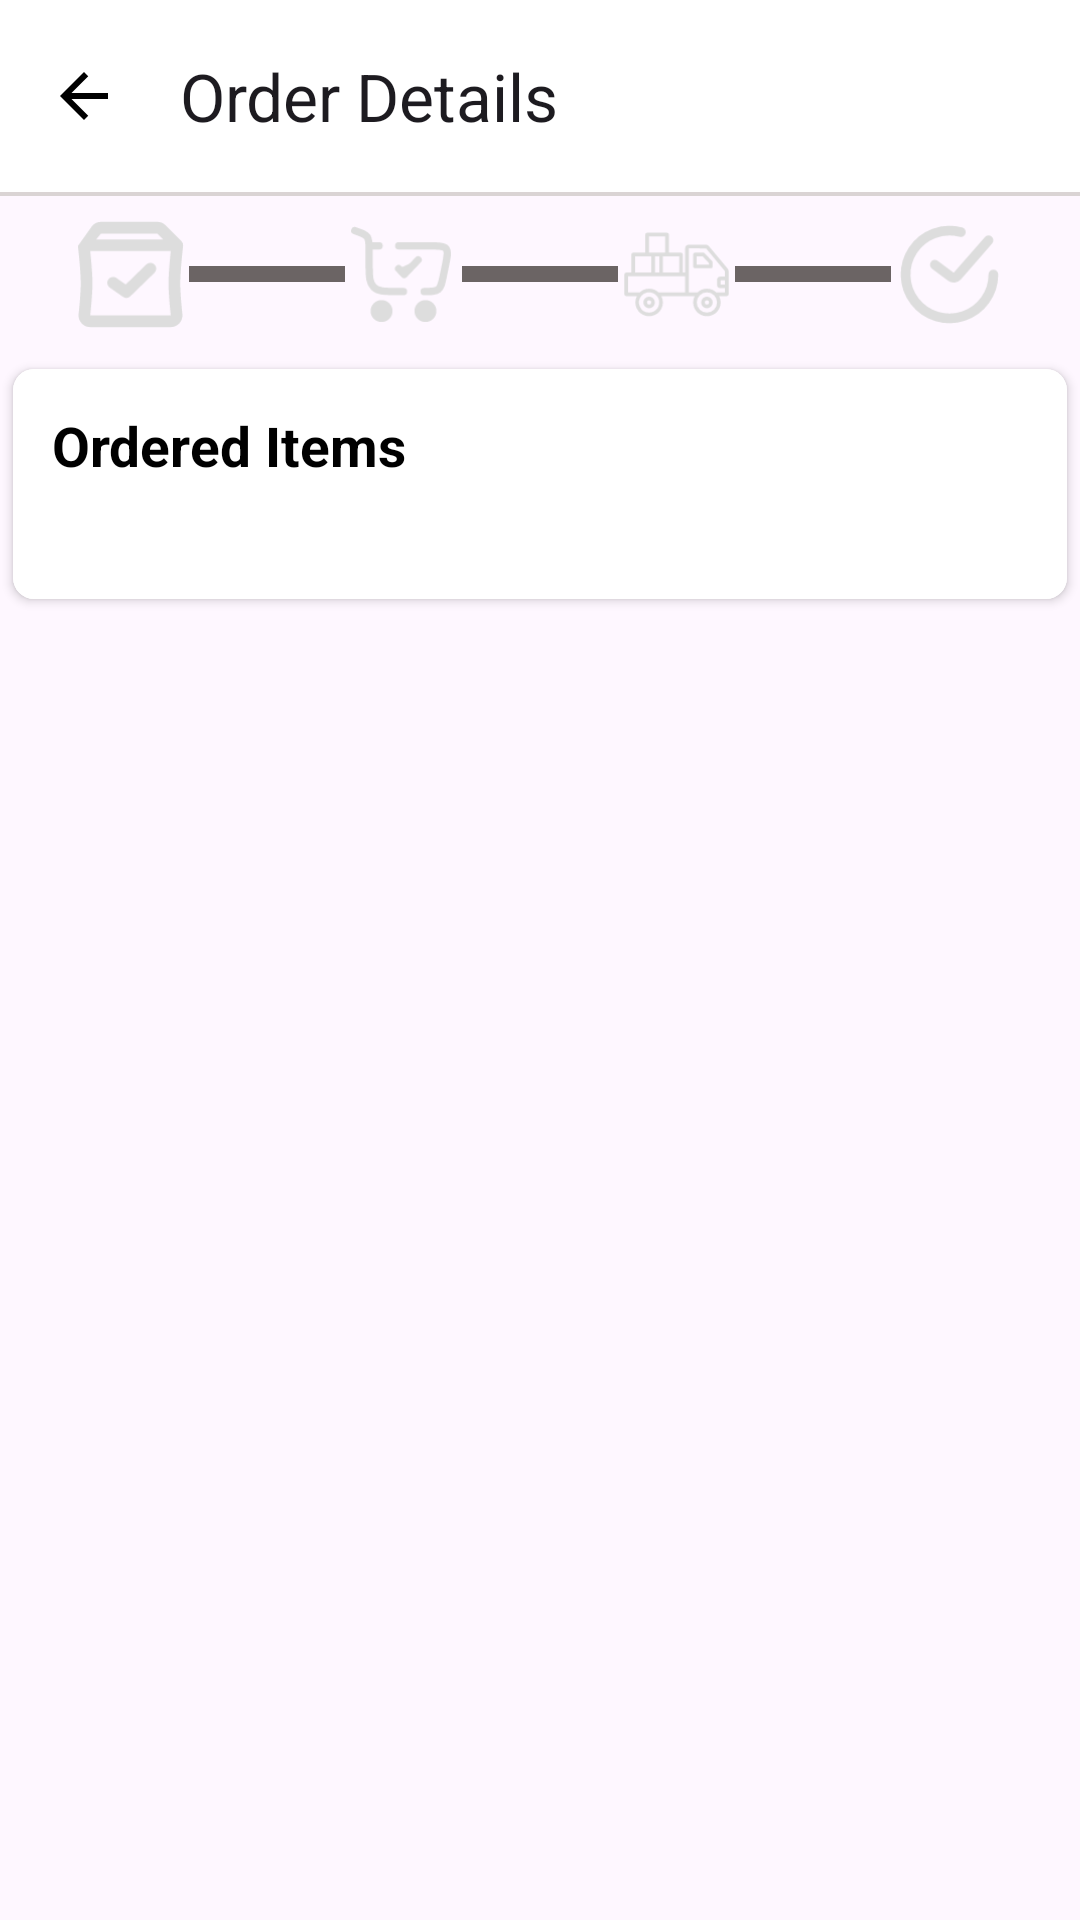

Locate icon controls on the screen. Image size 1080*1920, boxes as box=[x1, y1, x2, y2].
del vehicle: box=[625, 233, 728, 316]
done: box=[901, 226, 998, 323]
